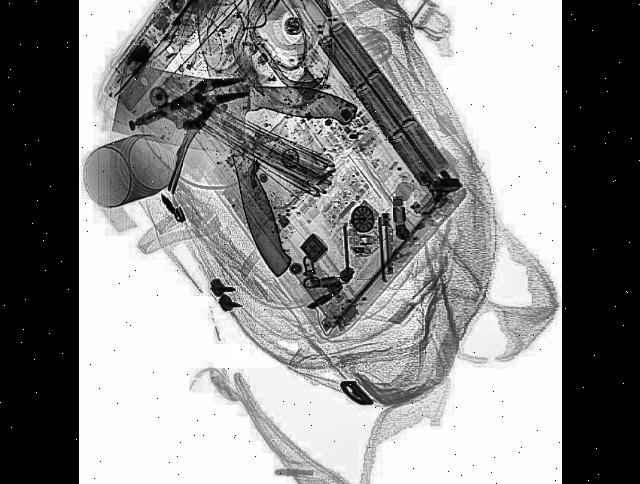Knife: (182, 0, 325, 284), (112, 62, 360, 170)
